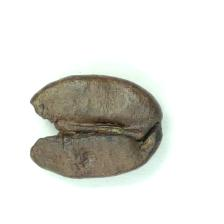NG: (27, 92, 66, 160)
